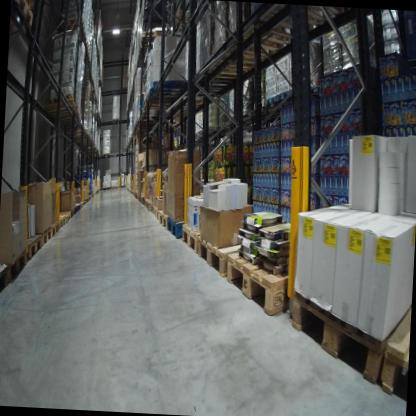pallet: (276, 245, 413, 385), (224, 232, 339, 320), (196, 217, 289, 286), (374, 300, 410, 407), (180, 210, 229, 260), (165, 210, 204, 245), (5, 245, 27, 296), (35, 98, 77, 120), (10, 0, 37, 32), (21, 232, 43, 267), (147, 80, 184, 100), (40, 91, 79, 109), (138, 26, 166, 46), (0, 255, 11, 301), (54, 16, 86, 31), (36, 223, 52, 251), (53, 209, 70, 230), (50, 215, 65, 238), (157, 209, 169, 230), (274, 85, 288, 103), (47, 219, 59, 239), (68, 128, 88, 137), (265, 94, 276, 109), (67, 210, 75, 225), (154, 206, 161, 223), (145, 197, 153, 211), (100, 150, 111, 158), (150, 201, 156, 215), (111, 115, 123, 122), (101, 184, 111, 192), (110, 185, 118, 191)
